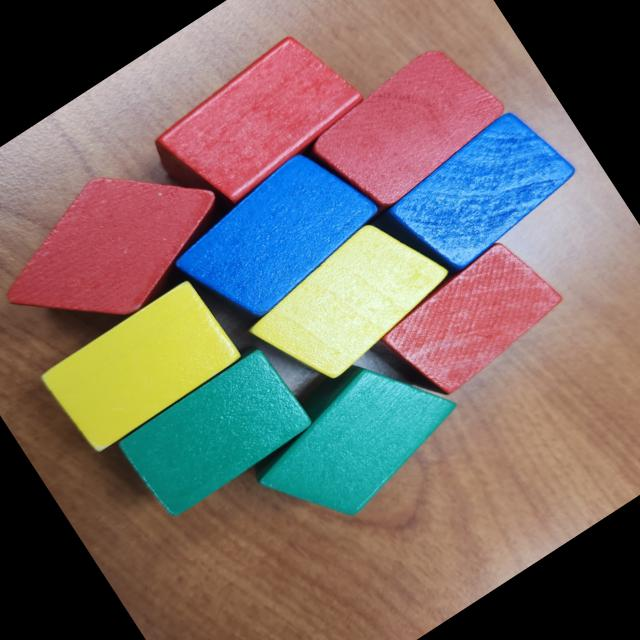blue: (163, 129, 399, 340), (361, 96, 590, 296)
green: (230, 322, 482, 552), (113, 342, 318, 524)
red: (0, 127, 246, 365), (145, 20, 374, 222), (355, 226, 575, 418), (298, 31, 515, 225)
yellow: (237, 199, 466, 404), (38, 274, 244, 456)
